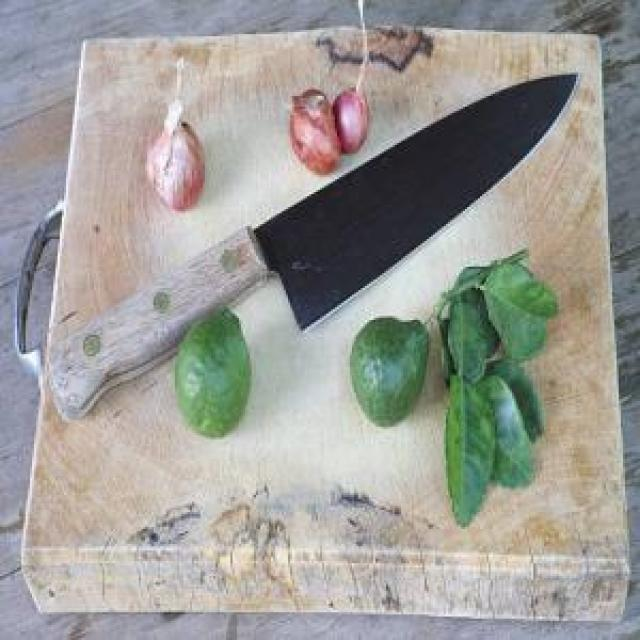knife: (49, 68, 585, 448)
